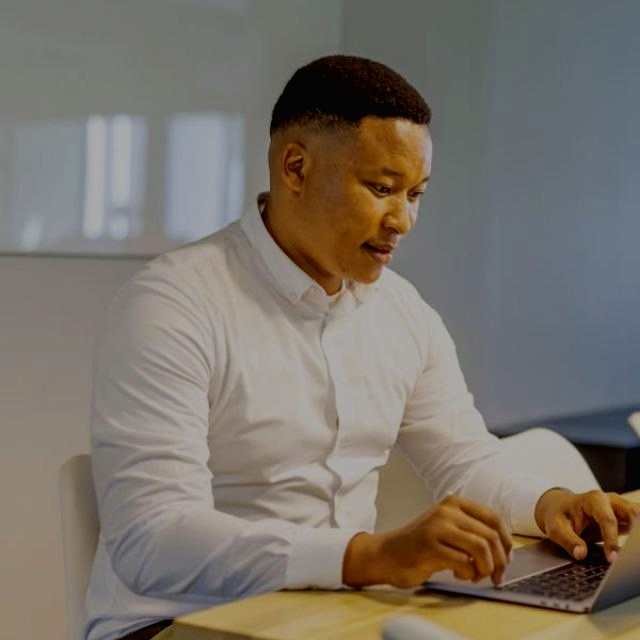Sin_Casco_Mascarrilla: (266, 56, 435, 284)
